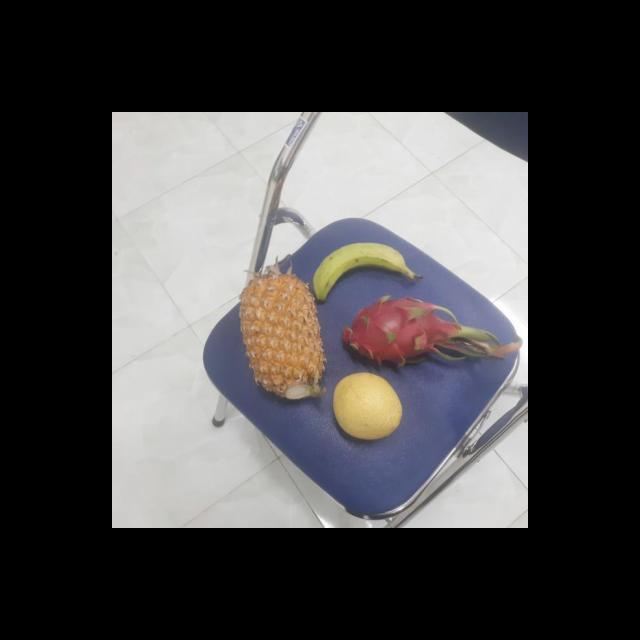banana: (306, 242, 406, 302)
pear: (330, 374, 404, 441)
pineapple: (236, 273, 328, 399)
pitaya: (338, 298, 456, 370)
